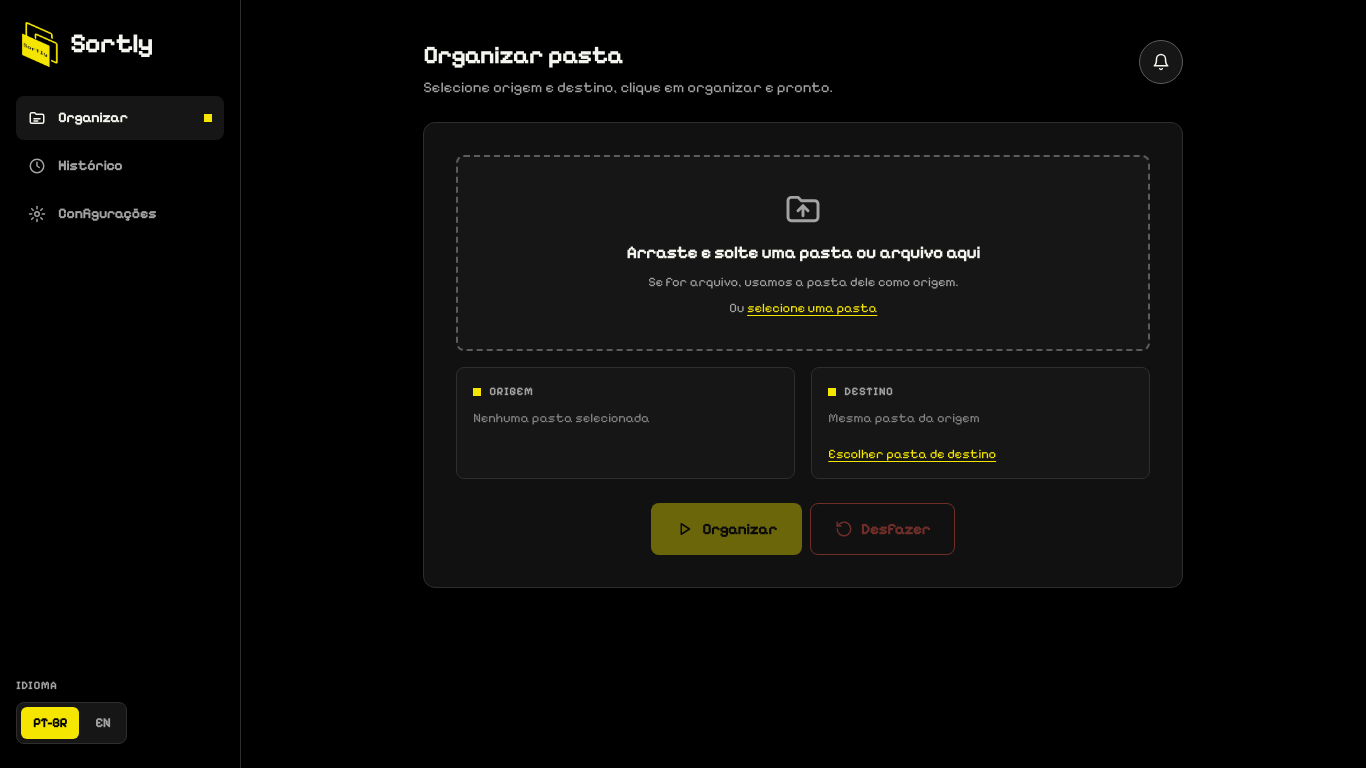
Test case: OrganizerView › a sidebar troca para Configurações e volta
Click the button "Configurações". click: (120, 214)
box: [16,192,224,236]
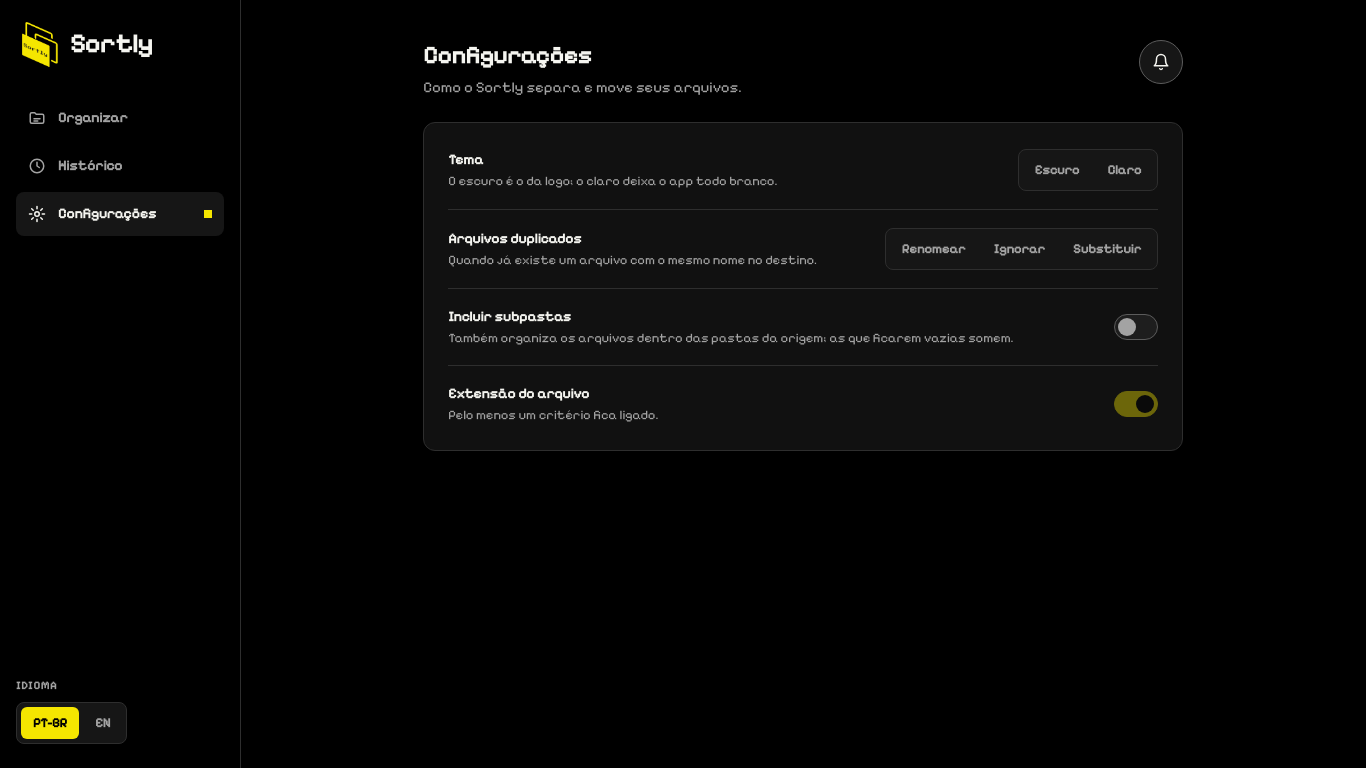
Now the heading "Configurações" is shown, box [423,41,592,70]
Now the switch named "Extensão do arquivo" is shown, box [1114,391,1158,417]
Click the button "Organizar". click: (120, 118)
box: [16,96,224,140]
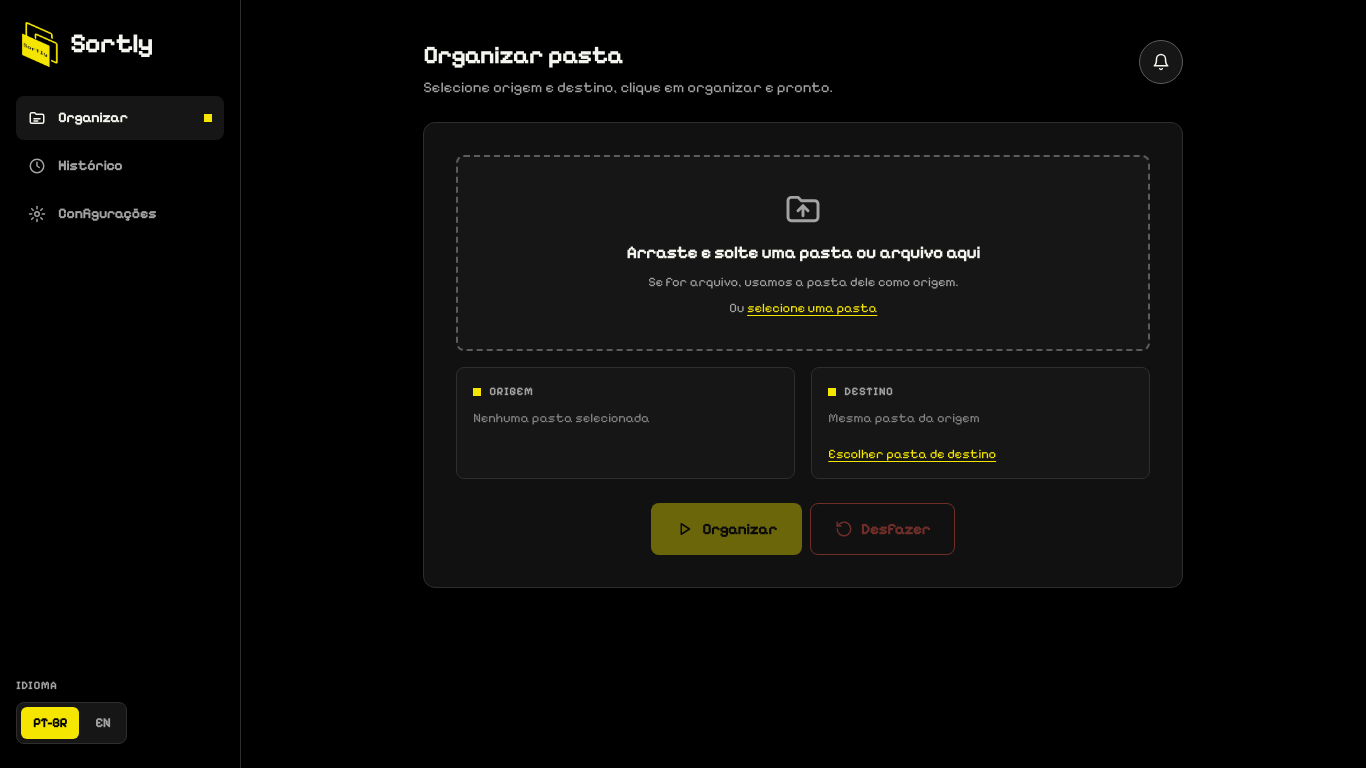
Now the heading "Organizar pasta" is shown, box [423,41,623,70]
